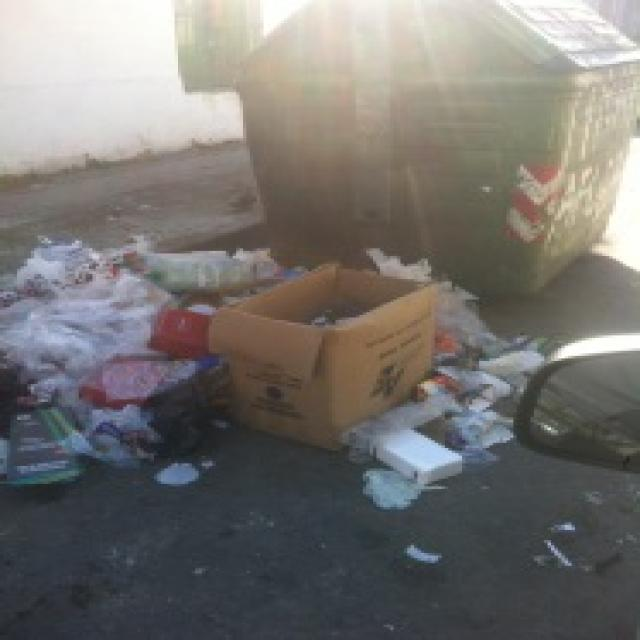garbage: (0, 230, 500, 497), (482, 323, 540, 384)
